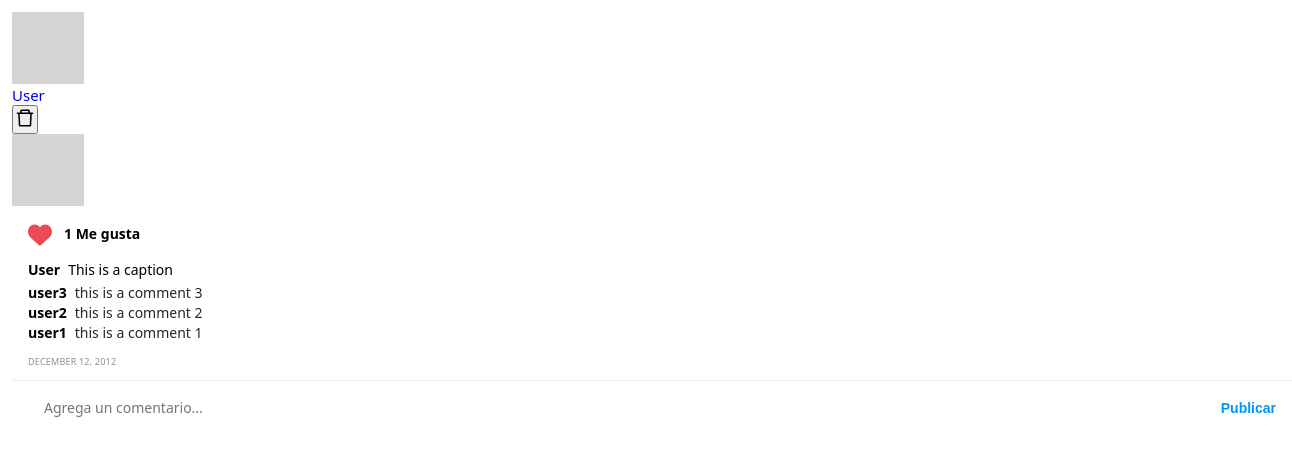
Test: <Post/> › renders and adds a comment
This screenshot has width=1292, height=454.
In the field with placeholder "Agrega un comentario...": (624, 409) [28,400,1221,417], type "Just a comment"
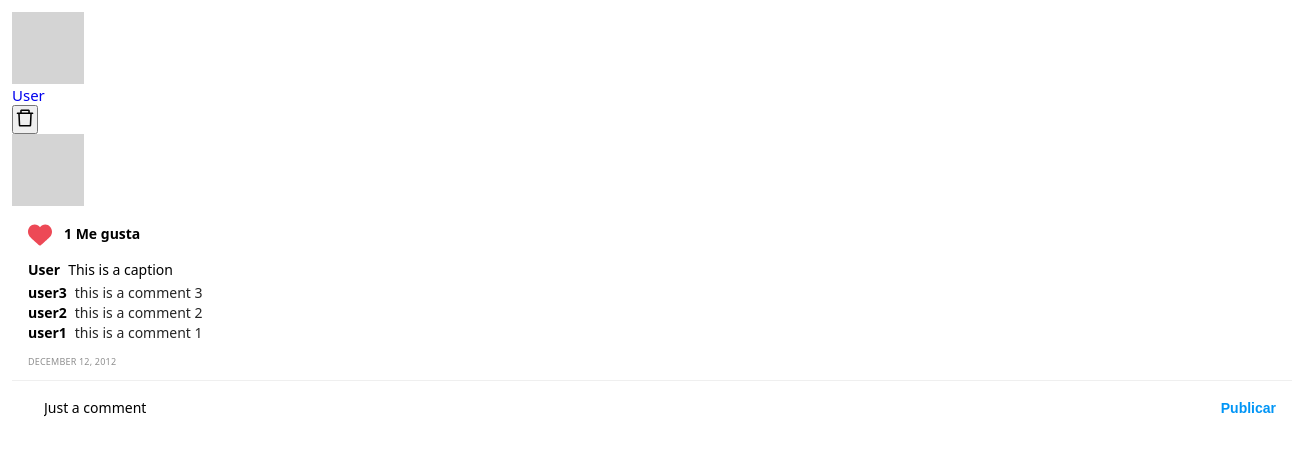
Click the button "Publicar": (1248, 409) [1221,400,1276,417]
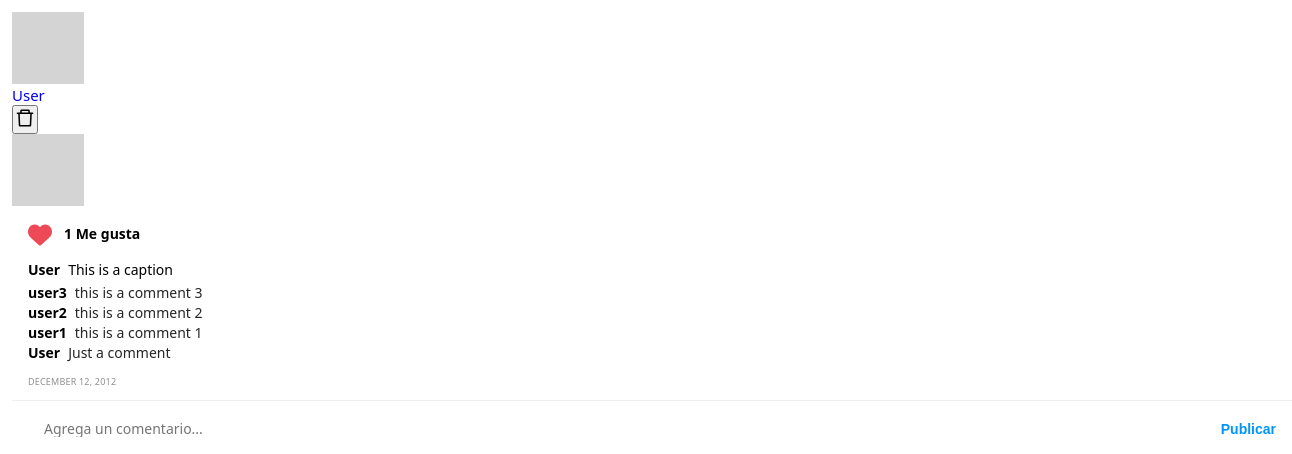
Check: the text "Just a comment" is shown, box [68,345,170,361]
